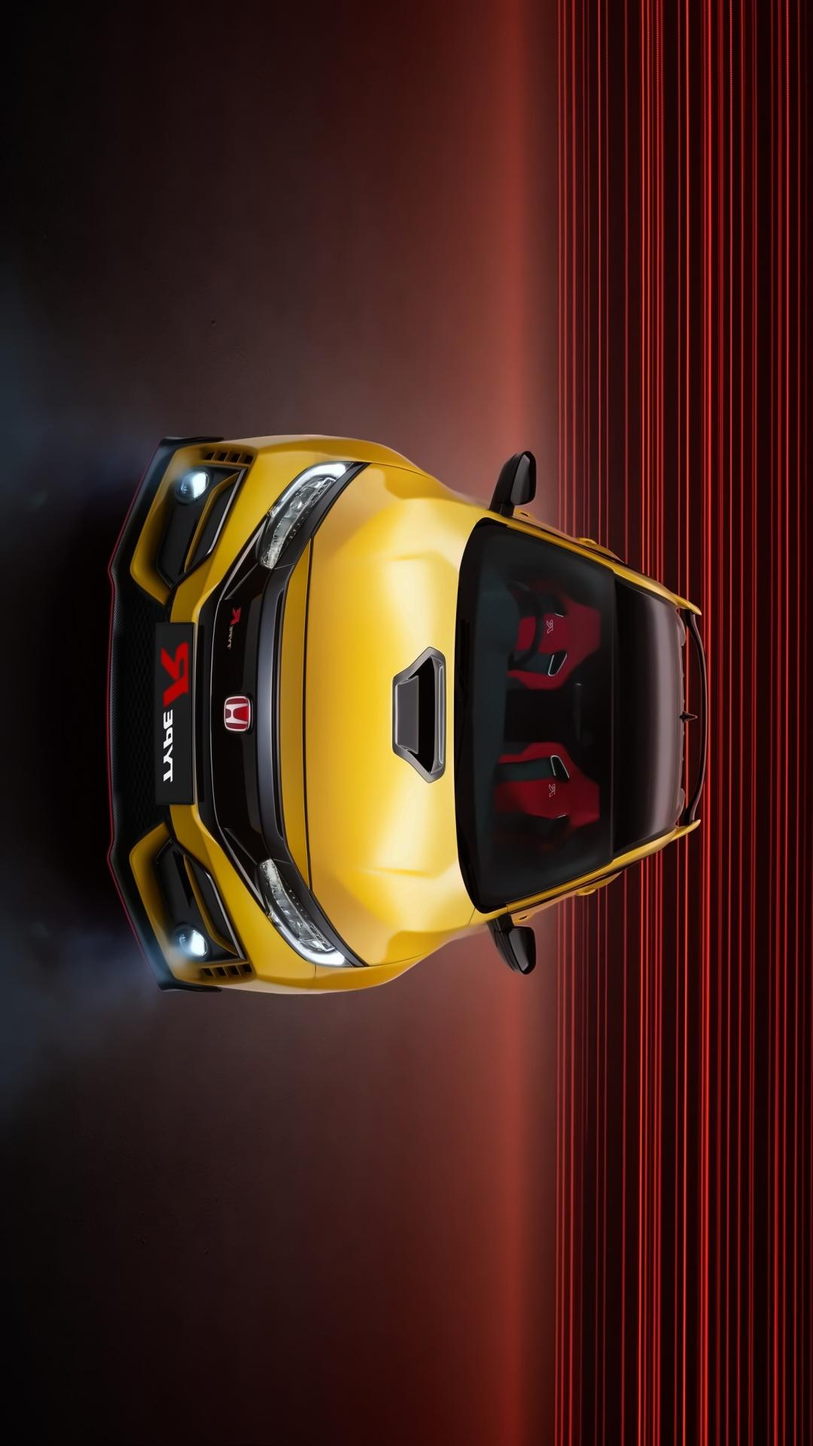Car hood: (299, 445, 484, 995)
Front bumper: (88, 415, 270, 1010)
Headlight - -L-: (241, 846, 364, 995)
Headlight - -R-: (246, 455, 367, 584)
Side mirror - -L-: (485, 902, 542, 997)
Side mirror - -R-: (482, 442, 553, 524)
